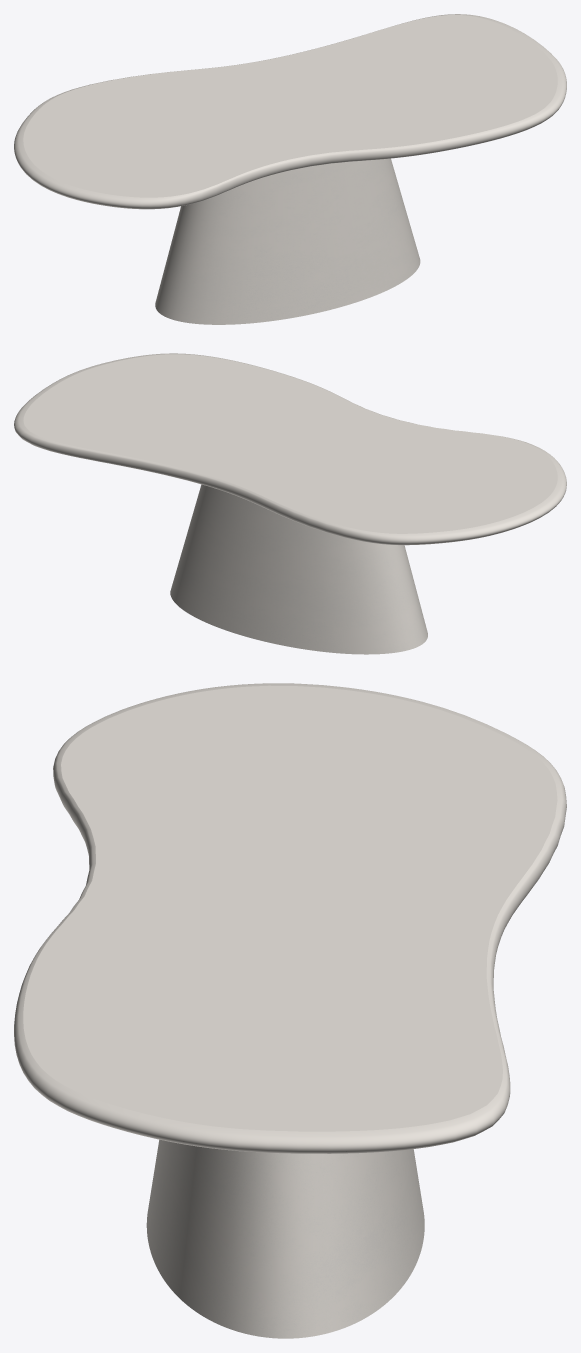
The model's file is pearlwhite_wave_round_eqone.glb.
3 views of the same model, one above another, from view 1: azimuth 30°, elevation 25°; view 2: azimuth 150°, elevation 25°; view 3: azimuth 270°, elevation 25° (orthographic). The views are drawn at different scales.
Parts seen in each view (by area): view 1: round_wave, eqone; view 2: round_wave, eqone; view 3: round_wave, eqone.
Part boxes in pixels (x1=…): round_wave: x1=14, y1=14, x2=566, y2=209; eqone: x1=155, y1=158, x2=420, y2=324; round_wave: x1=14, y1=353, x2=566, y2=545; eqone: x1=170, y1=484, x2=427, y2=654; round_wave: x1=14, y1=683, x2=566, y2=1153; eqone: x1=146, y1=1139, x2=424, y2=1338.
Size of the model in its own units: 7.76 by 2.5 by 3.93.
Materials: 1 (1 with a texture image).
